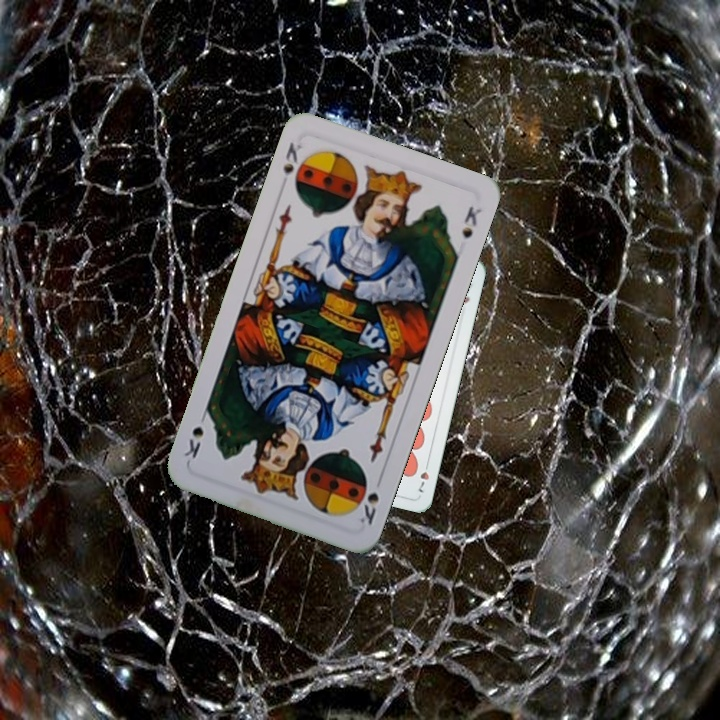H7: (414, 457, 432, 495)
SK: (279, 137, 310, 192), (355, 488, 382, 528)
